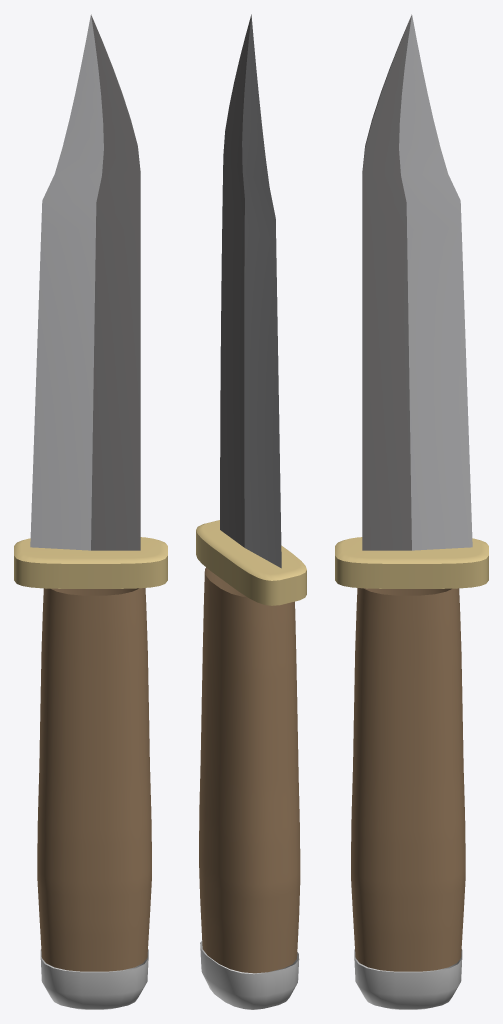
Rendered from knife.glb.
The picture shows the model from 3 angles, left to right: view 1: azimuth 90°, elevation 25°; view 2: azimuth 210°, elevation 25°; view 3: azimuth 270°, elevation 25°; orthographic projection.
Visible parts, largest first — view 1: Knife; view 2: Knife; view 3: Knife.
Boxes of the visible parts, box(x1,y1,x2,y2) form: Knife: box(14, 14, 167, 1009); Knife: box(196, 14, 306, 1009); Knife: box(335, 14, 488, 1009).
Size of the model in its own units: 0.0241 by 0.296 by 0.0418.
